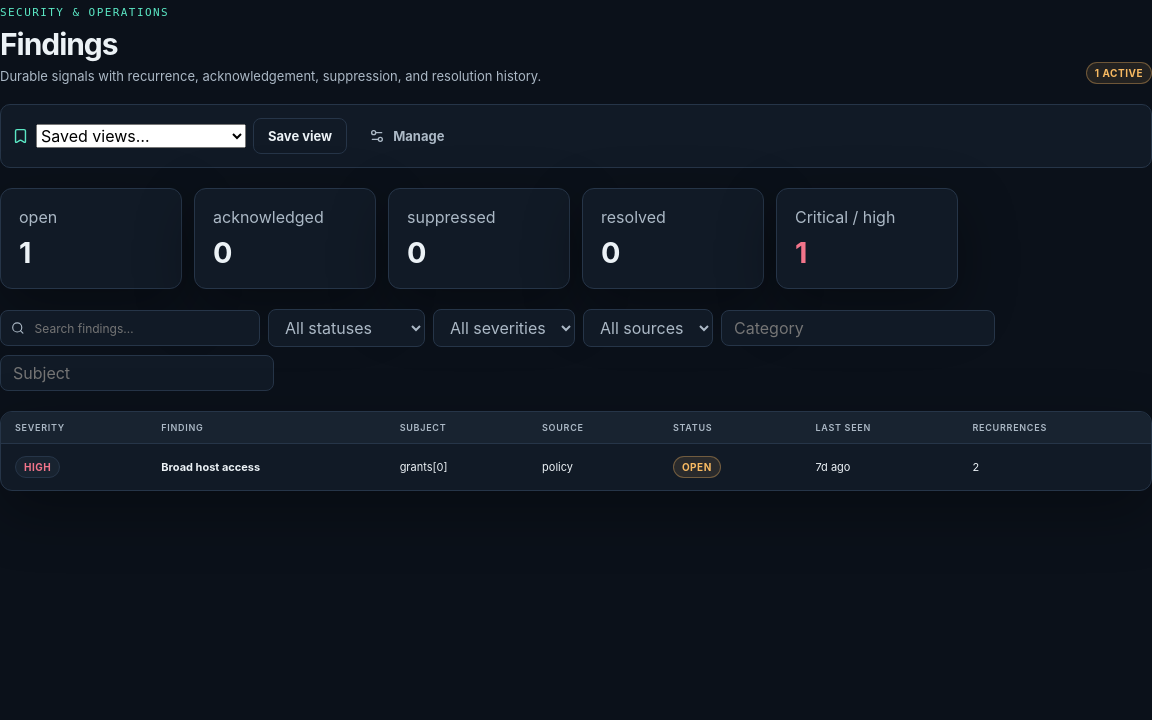
Scenario: TailView › shows durable findings, filters, and lifecycle details
Expected: the text "Broad host access" is shown, left=161, top=460, right=260, bottom=474
Select "high" in the dropdown named "Finding severity" at {"x": 504, "y": 328}, box left=433, top=309, right=575, bottom=347
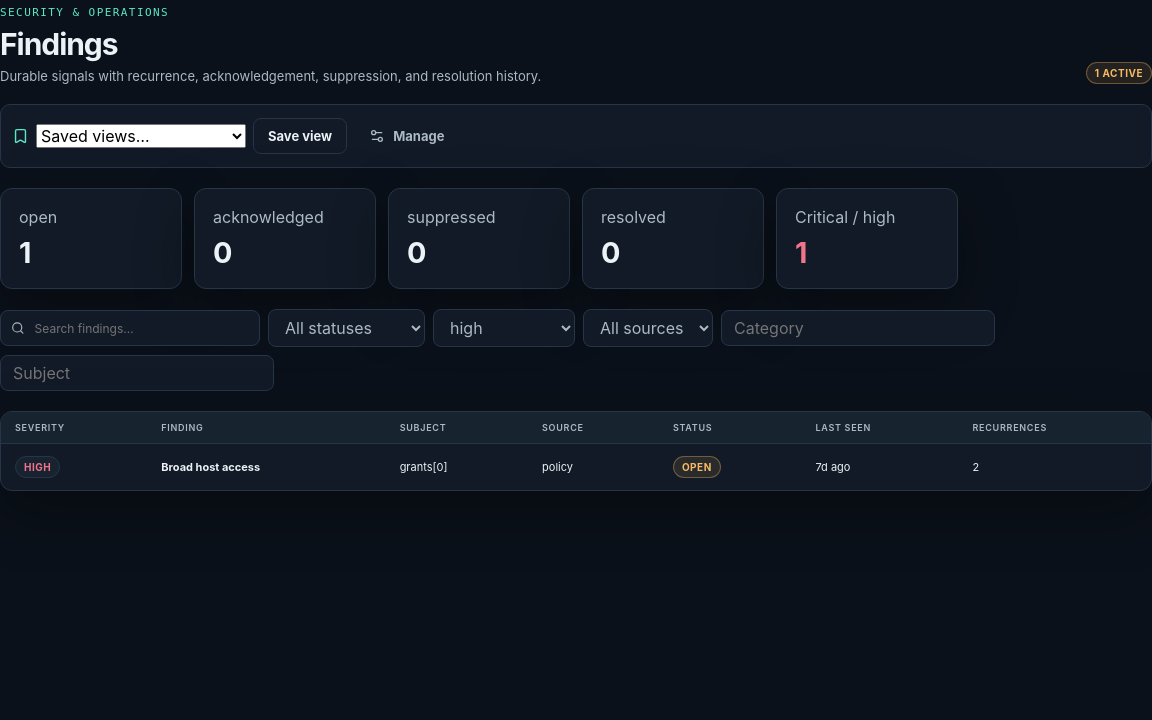
Click the text "Broad host access" at {"x": 211, "y": 467}, box left=161, top=460, right=260, bottom=474
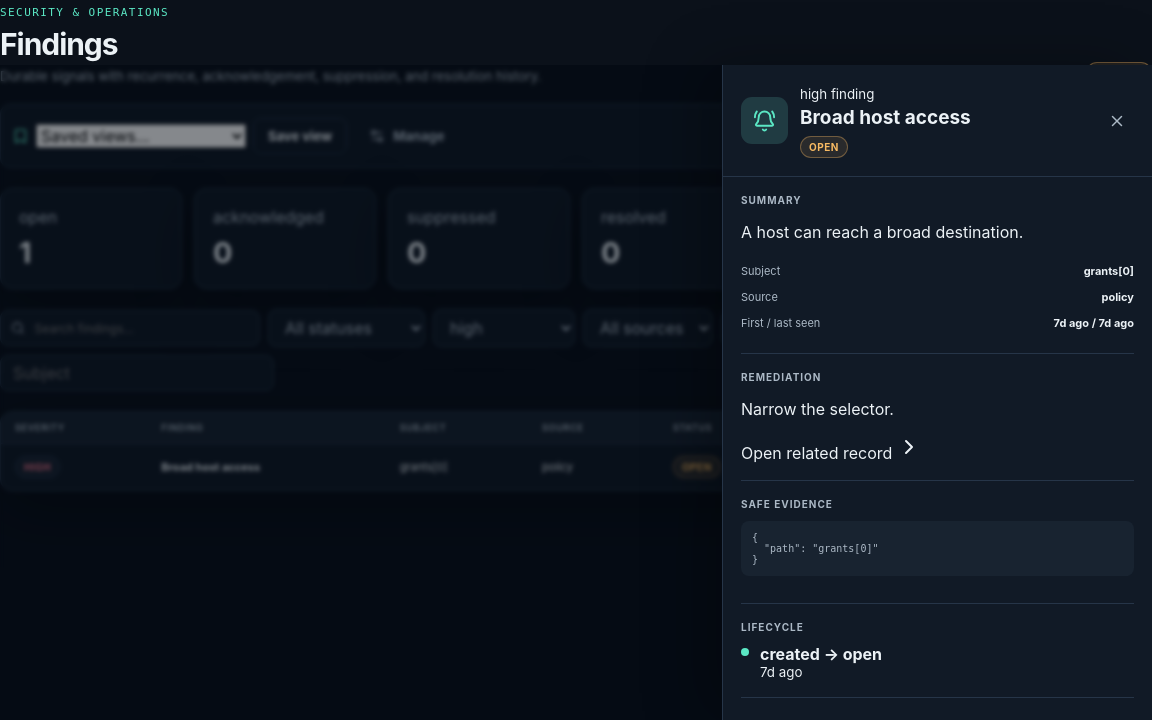
Now the text "Narrow the selector." is shown, box left=741, top=399, right=894, bottom=419
Now the text "created → open" is shown, box left=760, top=644, right=882, bottom=664
